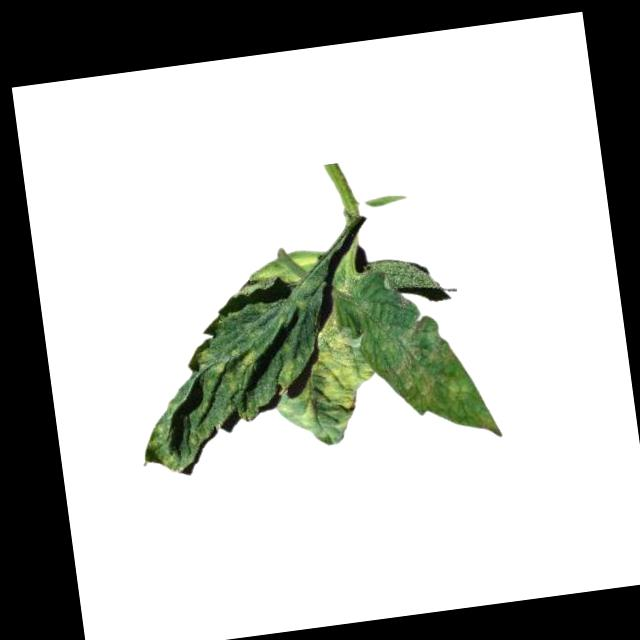Leaf_Mold: (368, 283, 501, 452), (129, 333, 280, 477), (266, 296, 385, 433)
